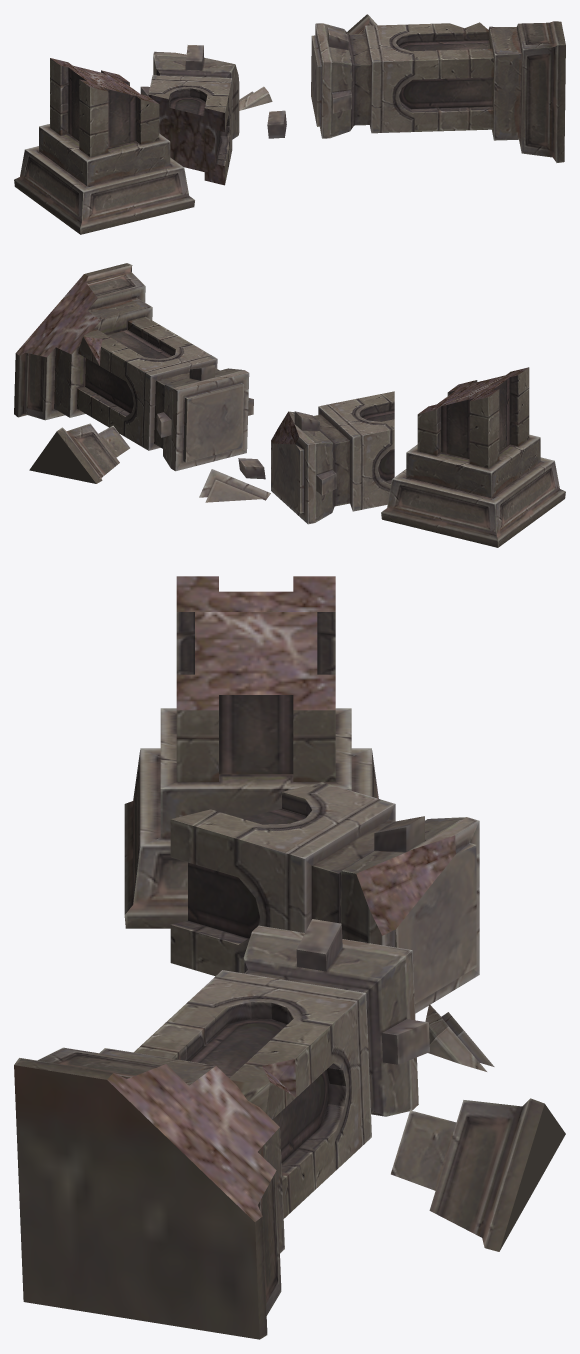
The model's file is zhuzi_bro.FBX.
3 views of the same model, one above another, from view 1: azimuth 30°, elevation 25°; view 2: azimuth 150°, elevation 25°; view 3: azimuth 270°, elevation 25° (orthographic). The views are drawn at different scales.
Visible parts, largest first — view 1: pozhuzi; view 2: pozhuzi; view 3: pozhuzi.
Part boxes in pixels (x1,y1,x2,y2): pozhuzi: (14, 14, 565, 234); pozhuzi: (14, 263, 565, 547); pozhuzi: (14, 576, 565, 1339).
Bounding box in the file's own units: 1513 × 438 × 720.
